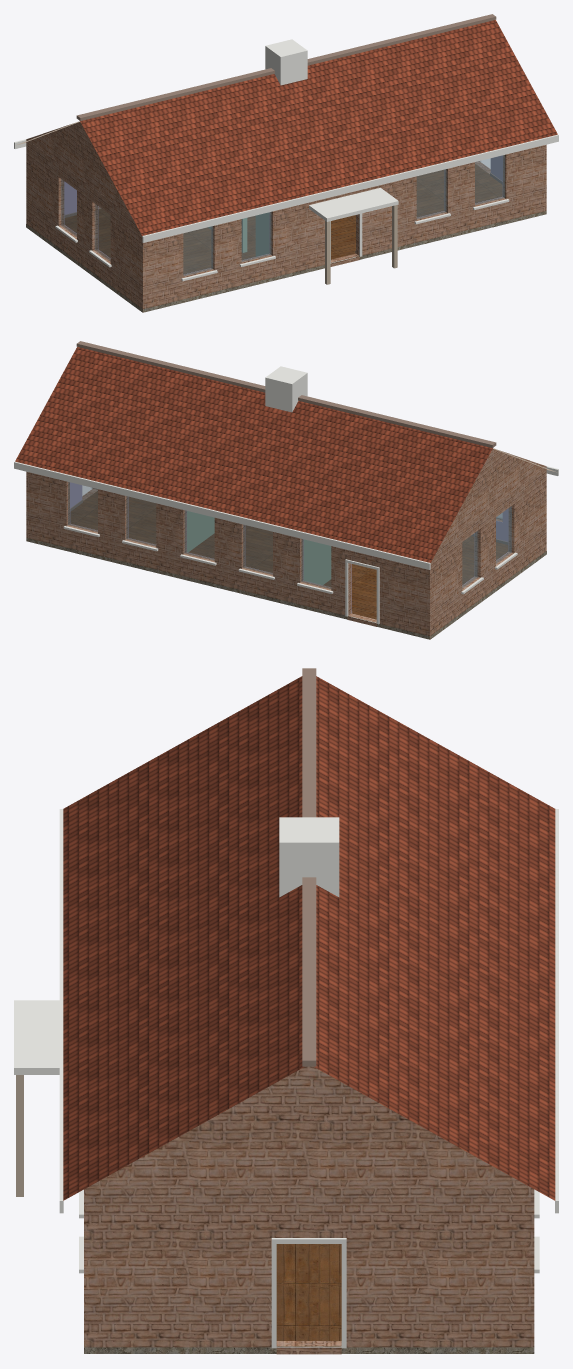
The model's file is schoolhouse.zfix-v14.lod0.glb.
3 renders of one model, top to bottom at view 1: azimuth 30°, elevation 25°; view 2: azimuth 150°, elevation 25°; view 3: azimuth 270°, elevation 25°, orthographic. The views are drawn at different scales.
Parts seen in each view (by area): view 1: schoolhouse; view 2: schoolhouse; view 3: schoolhouse.
Boxes of the visible parts, x1,y1,x2,y2 form: schoolhouse: (14,14,558,312); schoolhouse: (14,341,558,639); schoolhouse: (14,668,558,1354).
Bounding box in the file's own units: 18.54 × 7.37 × 10.89.
6 materials, 4 textured.
